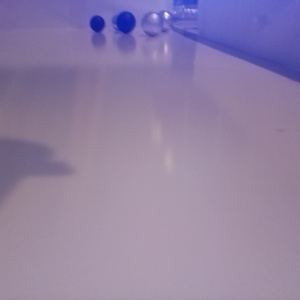alive_ball: (141, 11, 164, 37), (157, 11, 174, 32), (111, 15, 126, 31)
dead_ball: (116, 11, 136, 34), (89, 15, 106, 32)
